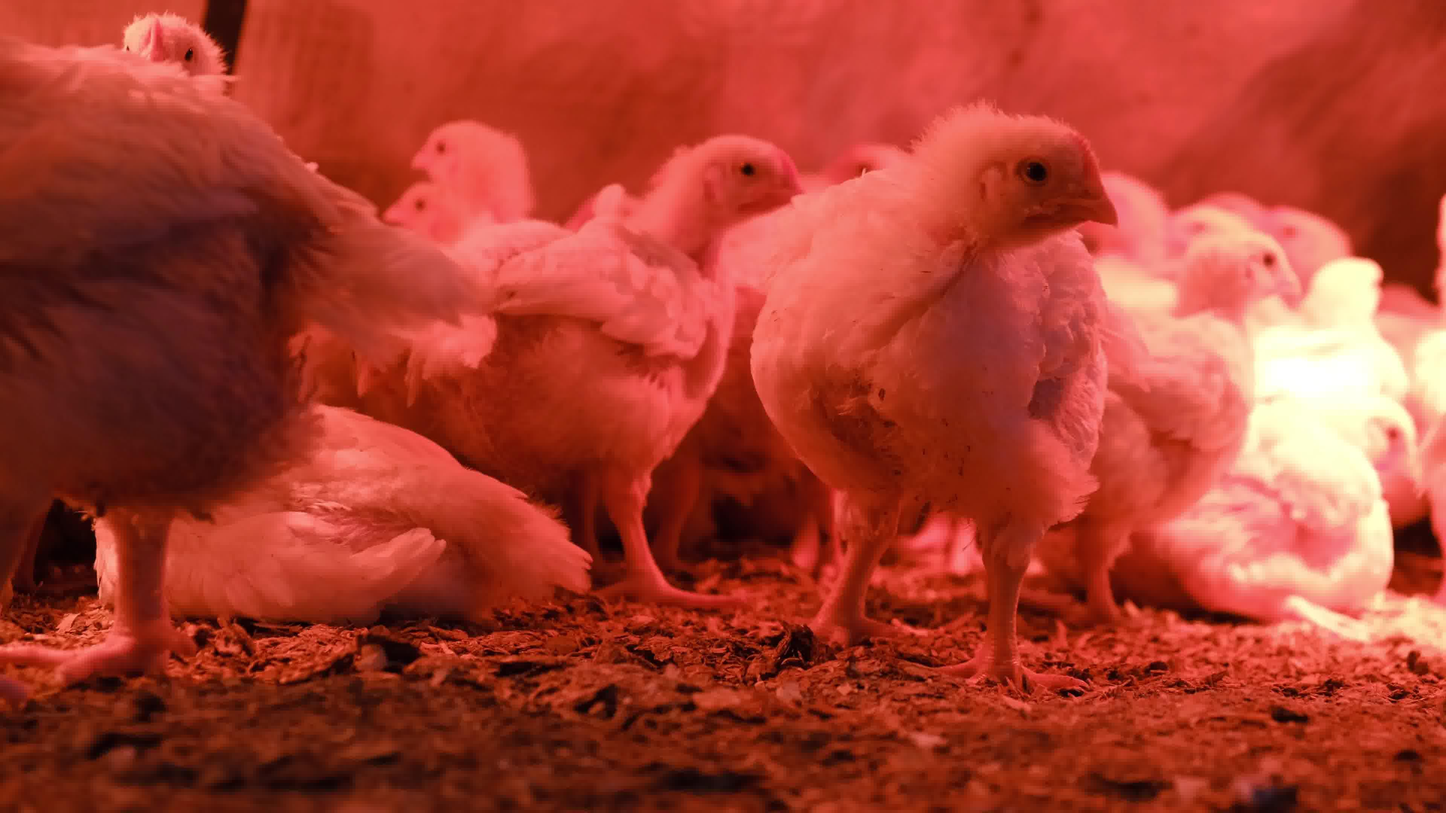AbNormal: (64, 373, 612, 640), (1211, 384, 1446, 678)
Normal: (0, 4, 407, 704), (723, 73, 1086, 708), (414, 122, 778, 649), (1115, 194, 1309, 627), (326, 94, 533, 303), (1213, 122, 1380, 335)
